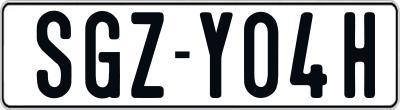0: (244, 9, 279, 101)
4: (288, 11, 331, 103)
G: (83, 11, 122, 100)
H: (342, 11, 375, 99)
S: (35, 10, 71, 100)
Y: (197, 9, 235, 100)
Z: (128, 11, 165, 102)
